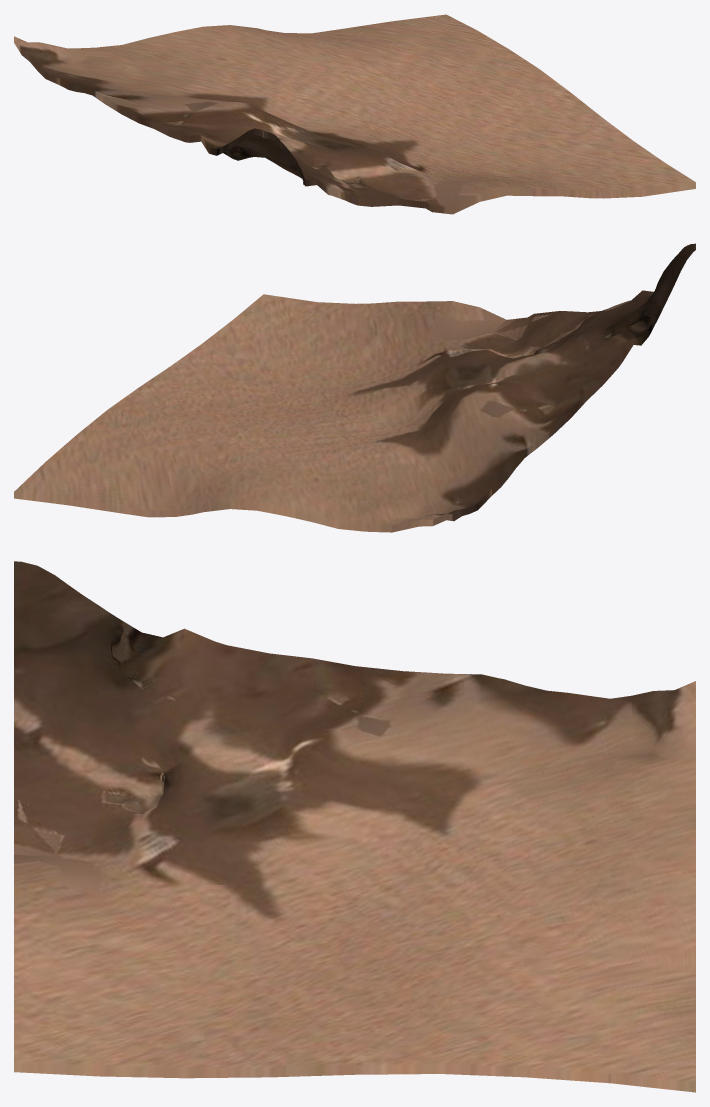
The picture shows the model from 3 angles, top to bottom: view 1: azimuth 30°, elevation 25°; view 2: azimuth 150°, elevation 25°; view 3: azimuth 270°, elevation 25°; orthographic projection. The views are drawn at different scales.
Bounding box in the file's own units: 1 × 0.3931 × 1.
1 material, 1 textured.
